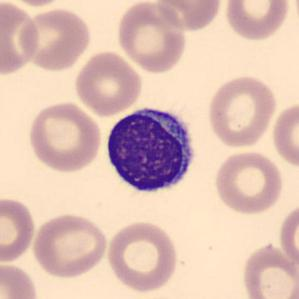Lymphocyte: (100, 101, 200, 200)
RBC: (25, 99, 104, 174), (105, 218, 180, 294), (205, 72, 279, 149), (29, 211, 110, 279), (114, 0, 188, 74), (72, 48, 145, 117), (212, 148, 286, 216), (17, 6, 92, 72), (239, 241, 298, 299), (0, 0, 42, 78), (222, 0, 292, 43), (0, 194, 37, 264), (154, 0, 225, 33), (270, 99, 298, 169), (0, 260, 41, 299), (277, 200, 298, 271), (4, 0, 72, 7)
